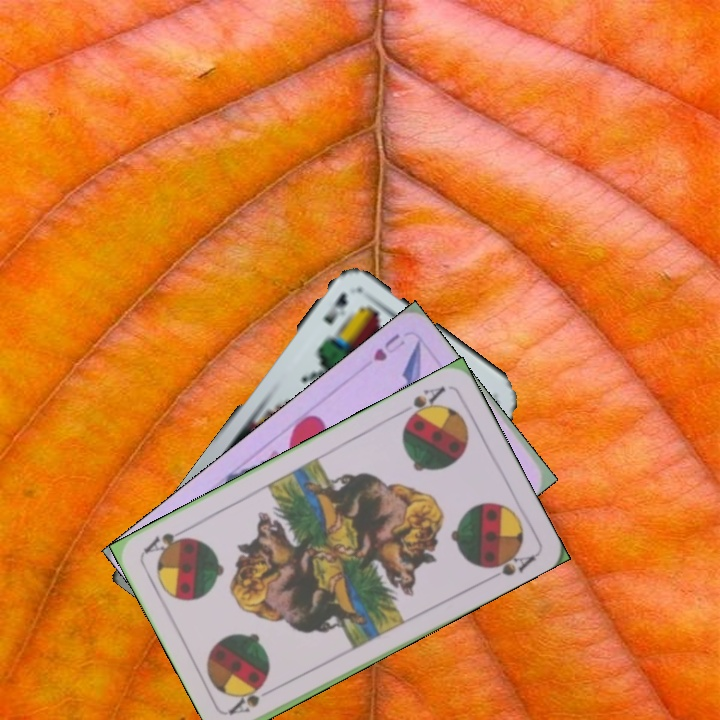EK: (319, 289, 351, 328)
HU: (369, 329, 408, 364)
SA: (401, 382, 449, 426), (226, 682, 281, 718)
